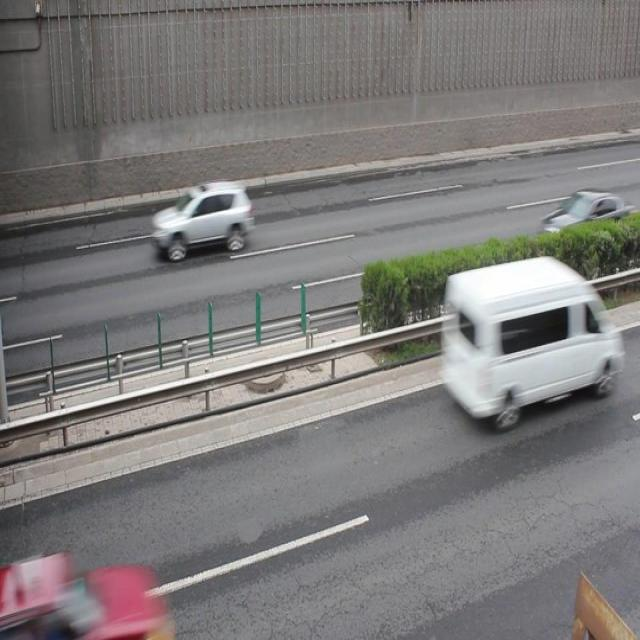car: (15, 548, 165, 640), (152, 182, 252, 260), (538, 188, 640, 242)
truck: (441, 255, 611, 421)
